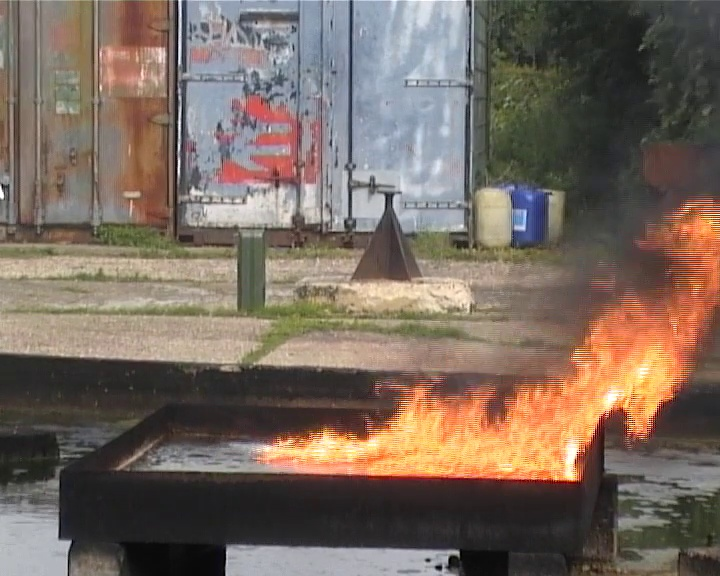fire: (260, 198, 718, 478)
